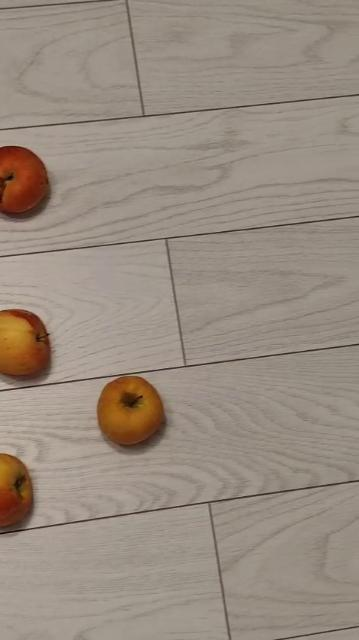apple_red: (96, 375, 164, 445), (0, 310, 52, 375), (0, 145, 49, 212), (0, 453, 33, 529)
